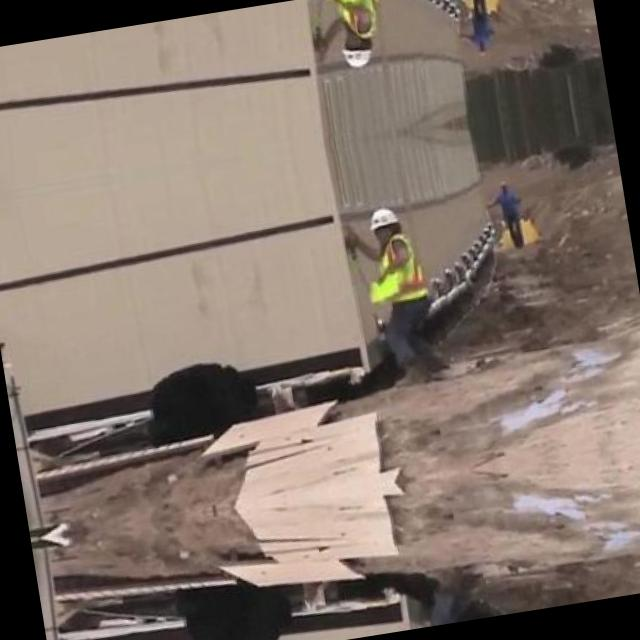helmet: (366, 202, 404, 252), (338, 23, 376, 72)
